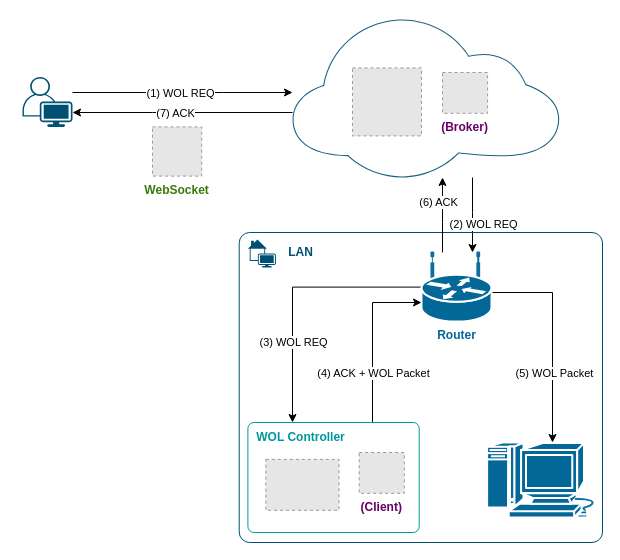
This 620x560 diagram has some shape labels left out. Grey dashed boxes stand in for pictures. The shapes that lost their labels are listed below. From the top down, each one's centre as x and y in pixels, then its label:
[47,101]: Client App
[544,479]: PC or Server
